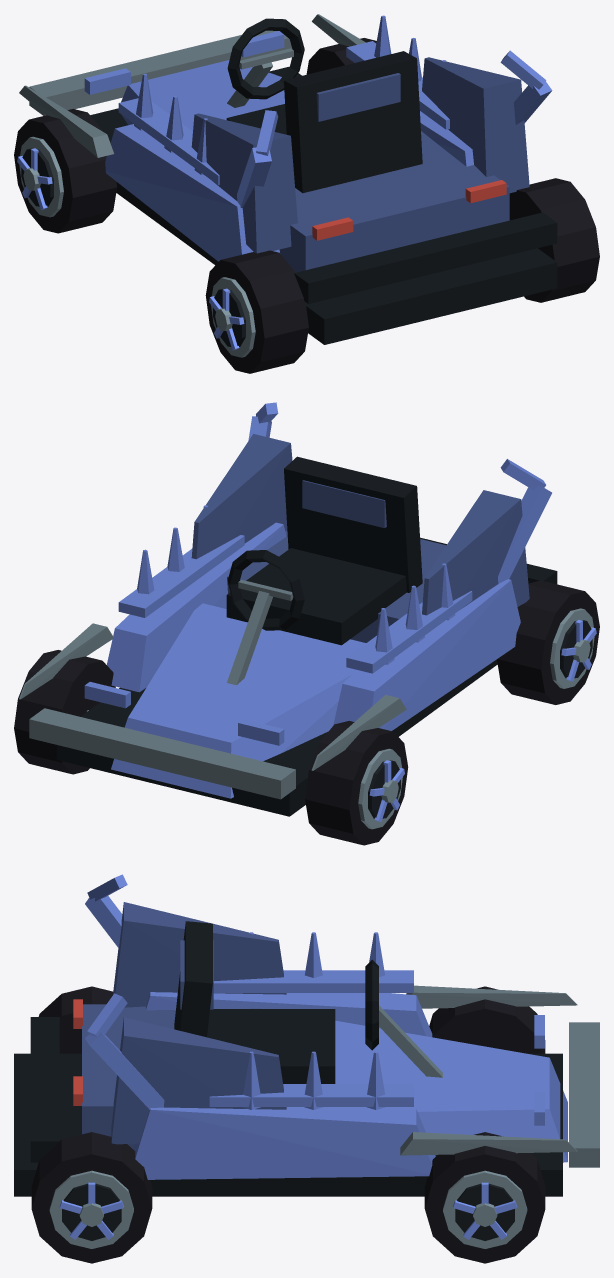
The model's file is kart.glb.
The picture shows the model from 3 angles, top to bottom: view 1: azimuth 30°, elevation 25°; view 2: azimuth 150°, elevation 25°; view 3: azimuth 270°, elevation 25°; orthographic projection. The views are drawn at different scales.
Parts seen in each view (by area): view 1: chassis, wheel-rear-left, wheel-front-left, wheel-rear-right, wheel-front-right; view 2: chassis, wheel-front-left, wheel-rear-left, wheel-front-right; view 3: chassis, wheel-rear-right, wheel-front-right, wheel-front-left, wheel-rear-left.
Boxes of the visible parts, x1=… form: chassis: x1=19, y1=14, x2=557, y2=344; wheel-rear-left: x1=205, y1=250, x2=308, y2=373; wheel-front-left: x1=14, y1=109, x2=117, y2=233; wheel-rear-right: x1=509, y1=178, x2=599, y2=302; wheel-front-right: x1=306, y1=38, x2=376, y2=74; chassis: x1=19, y1=402, x2=557, y2=816; wheel-front-left: x1=305, y1=721, x2=408, y2=845; wheel-rear-left: x1=497, y1=580, x2=599, y2=704; wheel-front-right: x1=14, y1=650, x2=115, y2=774; chassis: x1=14, y1=874, x2=599, y2=1196; wheel-rear-right: x1=31, y1=1132, x2=152, y2=1263; wheel-front-right: x1=424, y1=1132, x2=545, y2=1263; wheel-front-left: x1=429, y1=986, x2=545, y2=1053; wheel-rear-left: x1=38, y1=986, x2=113, y2=1053.
Bounding box in the file's own units: 2.21 × 1.38 × 3.01.
